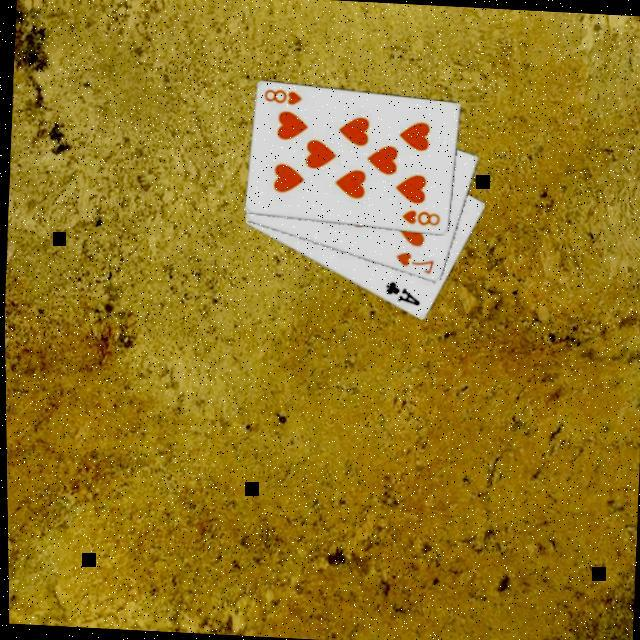7H: (390, 251, 435, 279)
8H: (397, 208, 442, 231), (260, 88, 305, 111)
AC: (381, 280, 422, 311)
